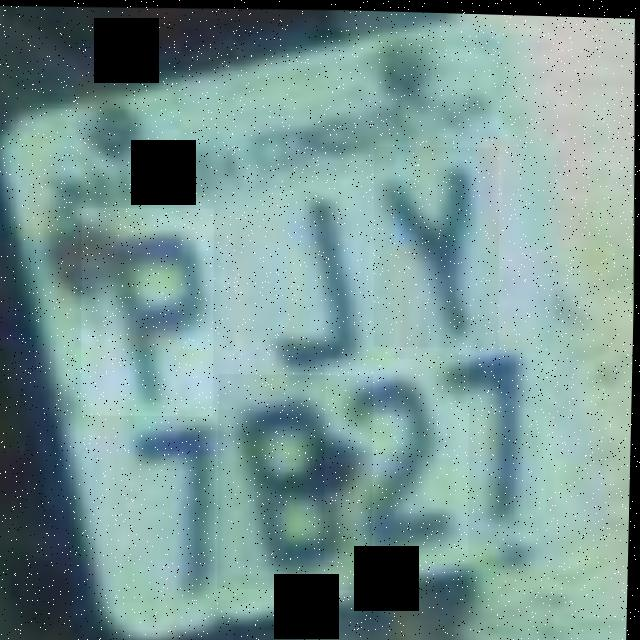2: (323, 353, 474, 563)
7: (107, 404, 254, 605), (423, 338, 558, 531)
8: (215, 369, 378, 591)
J: (239, 177, 382, 382)
P: (78, 204, 218, 417)
Y: (371, 142, 503, 347)
